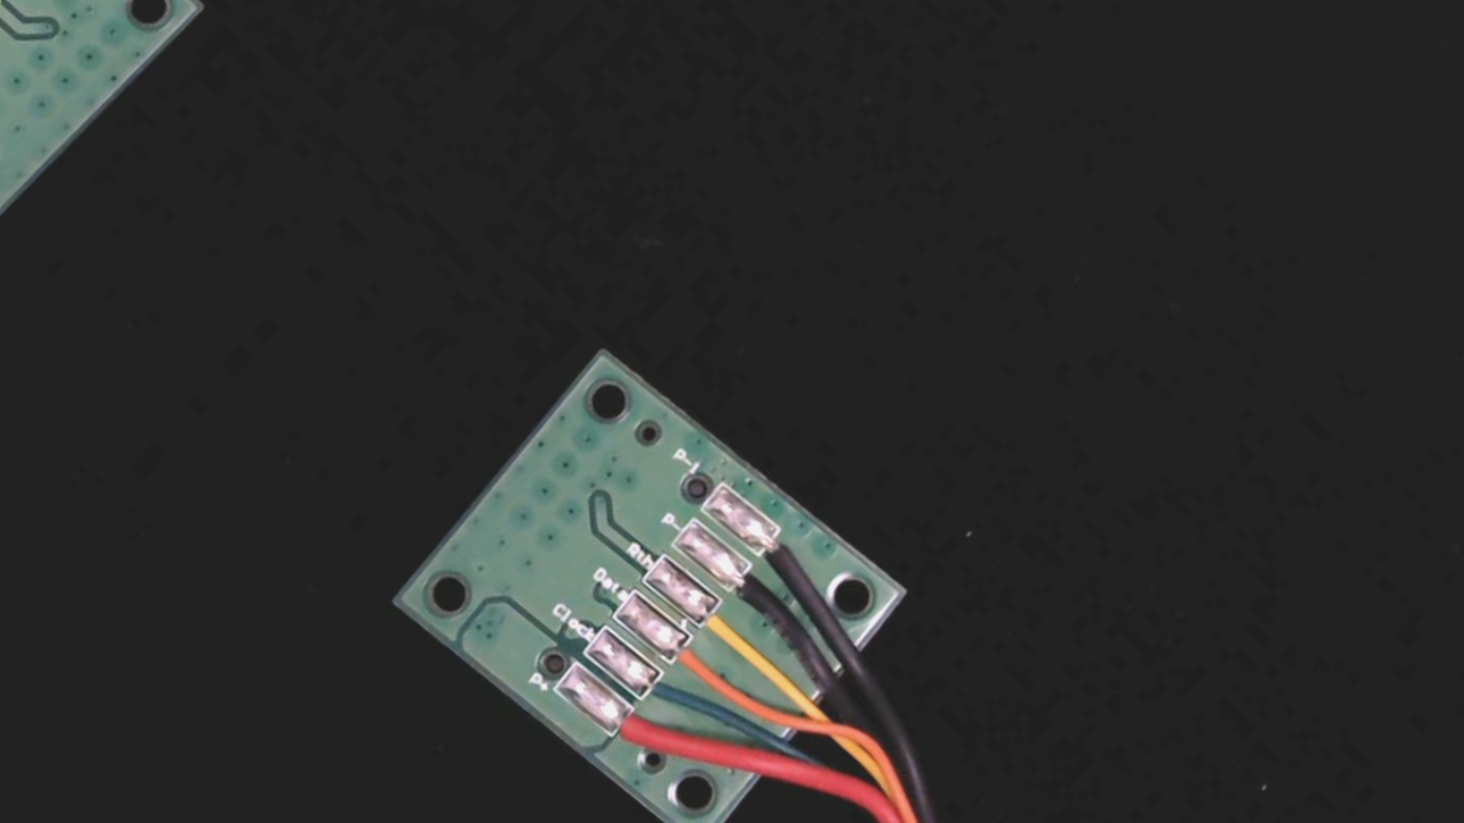Black: (714, 552, 799, 632)
Black1: (745, 520, 819, 590)
Green: (623, 653, 714, 740)
Orange: (654, 619, 744, 705)
Red: (595, 691, 686, 778)
Yellow: (684, 587, 769, 667)
